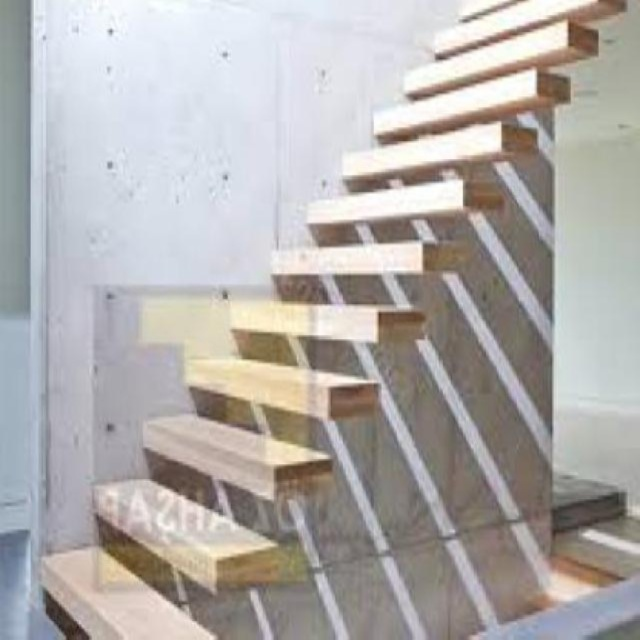stair: (25, 0, 633, 637)
